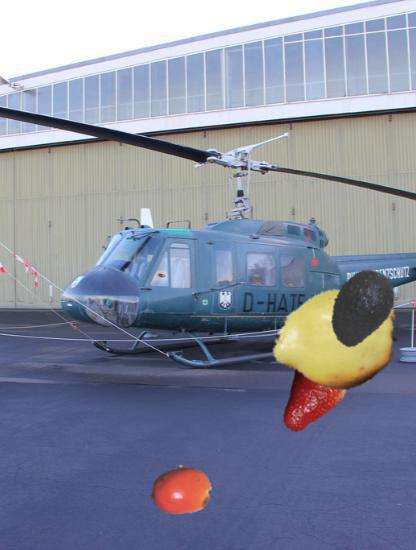Avocado: (318, 267, 401, 350)
Kaki: (150, 458, 213, 521)
Quince: (273, 274, 400, 401)
Strawberry: (268, 352, 352, 436)
